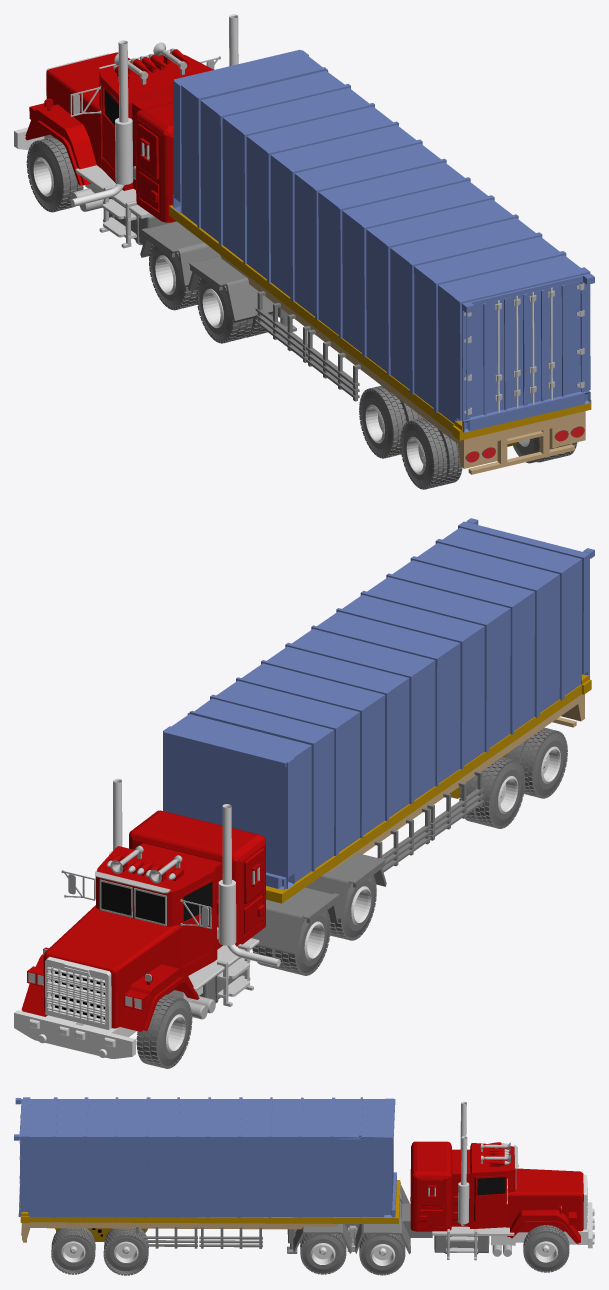
The model's file is insdustrial_truck_TS.fbx.
3 views of the same model, one above another, from view 1: azimuth 30°, elevation 25°; view 2: azimuth 150°, elevation 25°; view 3: azimuth 270°, elevation 25° (orthographic). The views are drawn at different scales.
Visible parts, largest first — view 1: Box73, Box77, Box1177, Box75, Box76, frontpart, Box04, Box35, Box709, Box28, Box708, Box1152 (+18 smaller); view 2: Box73, Box04, Box35, frontpart, Box75, buffer, Box708, Box28, Box709, Box76, Box05, Box687 (+16 smaller); view 3: Box73, Box04, Box35, Box75, frontpart, Box76, Box694, Box29, Tube10, Tube11, Tube14, Box1158 (+26 smaller).
Part boxes in pixels (<box>): Box73: <box>172,49,594,432</box>; Box77: <box>524,280,583,405</box>; Box1177: <box>466,294,524,419</box>; Box75: <box>169,205,591,440</box>; Box76: <box>220,255,585,468</box>; frontpart: <box>99,52,213,190</box>; Box04: <box>46,52,131,168</box>; Box35: <box>135,102,175,222</box>; Box709: <box>188,256,274,322</box>; Box28: <box>25,104,96,185</box>; Box708: <box>140,221,220,287</box>; Box1152: <box>468,429,574,474</box>; Box73: <box>163,518,594,890</box>; Box04: <box>43,905,182,1028</box>; Box35: <box>129,810,265,946</box>; frontpart: <box>95,843,222,975</box>; Box75: <box>266,674,591,903</box>; buffer: <box>14,986,202,1058</box>; Box708: <box>251,887,339,954</box>; Box28: <box>119,964,199,1031</box>; Box709: <box>305,853,386,919</box>; Box76: <box>328,694,584,872</box>; Box05: <box>45,957,111,1029</box>; Box687: <box>182,878,214,966</box>; Box73: <box>14,1097,396,1217</box>; Box04: <box>506,1168,583,1232</box>; Box35: <box>410,1141,452,1231</box>; Box75: <box>20,1180,400,1224</box>; frontpart: <box>451,1143,515,1228</box>; Box76: <box>22,1222,338,1240</box>; Box694: <box>475,1175,507,1223</box>; Box29: <box>507,1209,580,1243</box>; Tube10: <box>524,1226,568,1271</box>; Tube11: <box>360,1234,404,1274</box>; Tube14: <box>301,1234,344,1273</box>; Box1158: <box>199,1226,262,1248</box>.
Bounding box in the file's own units: 776 × 870 × 3330.
